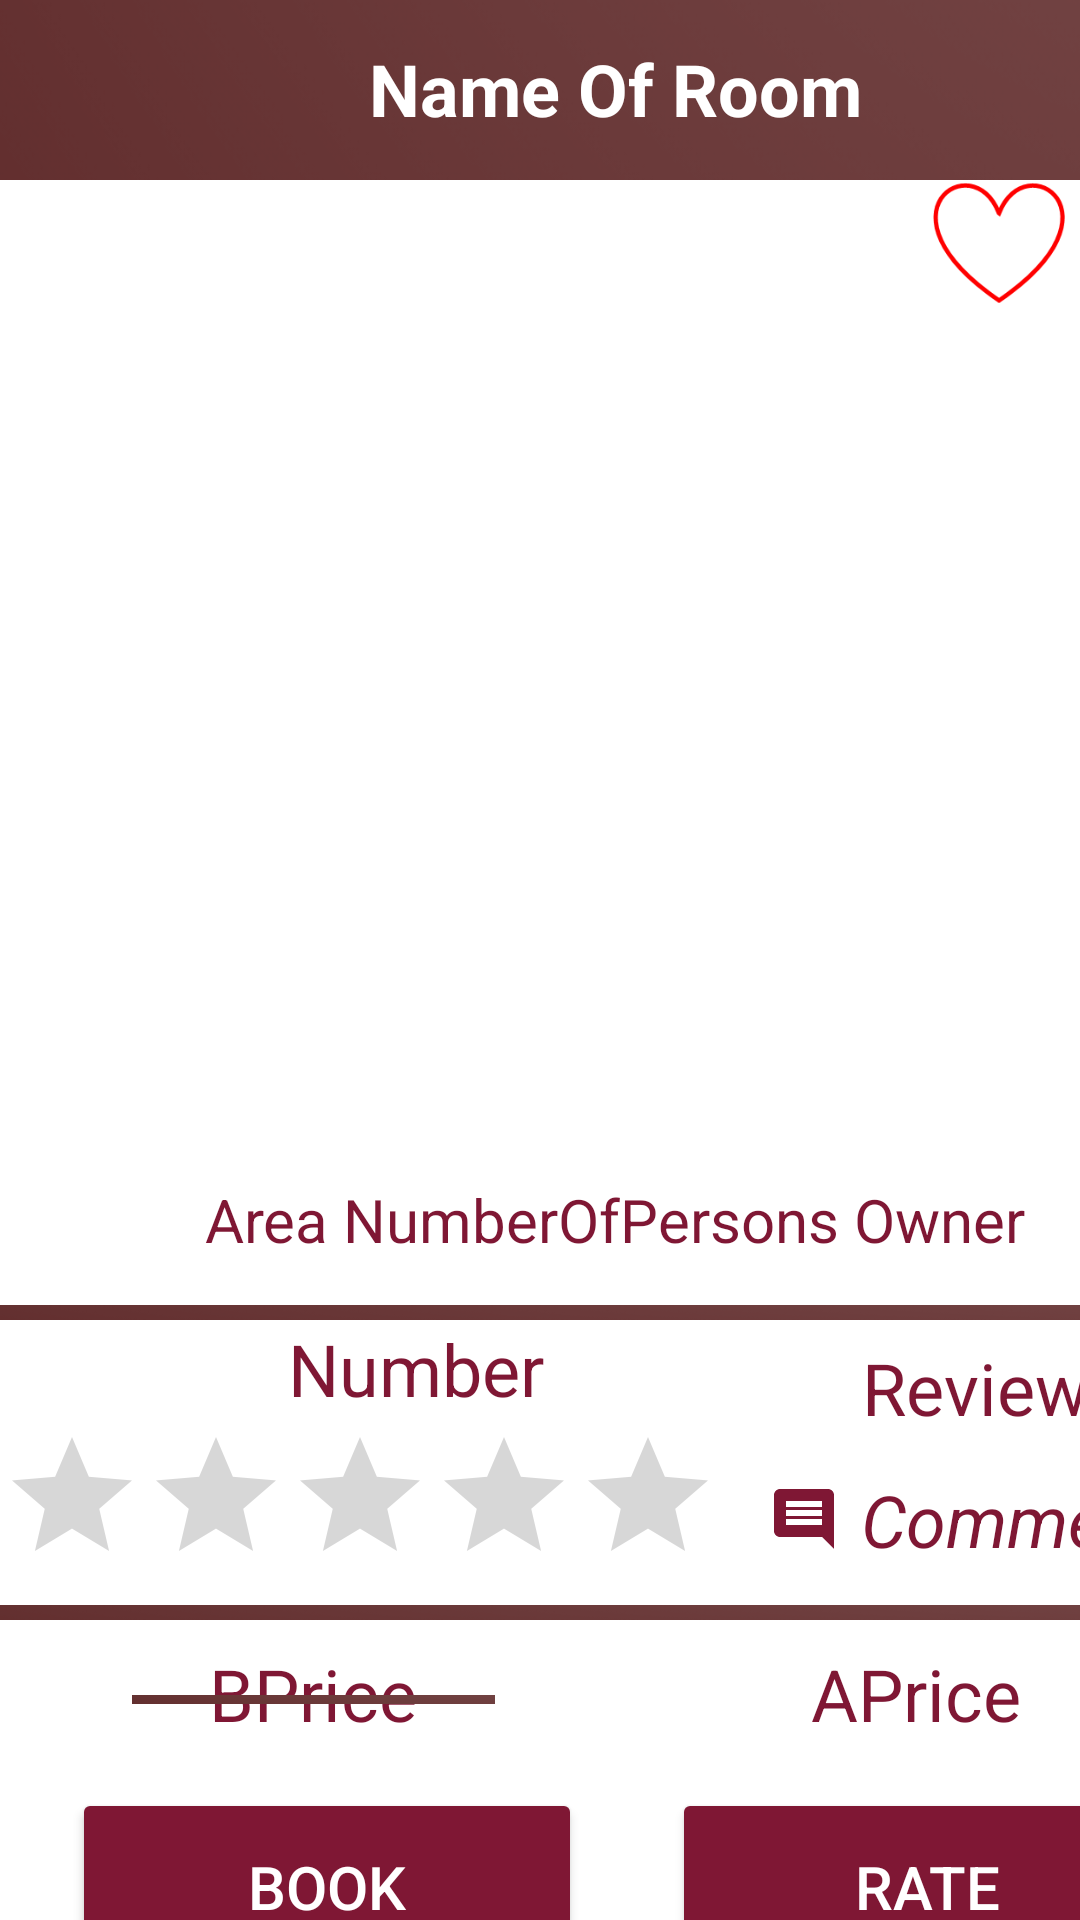

Screen size 1080px x 1920px. Icon name, then its center in pixels as (x=x, y=y):
whiteheart: (x=999, y=243)
